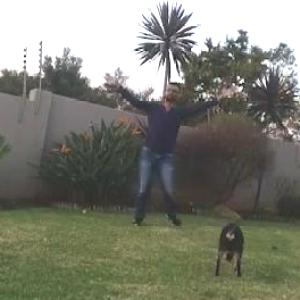takeoff: (122, 78, 246, 222)
